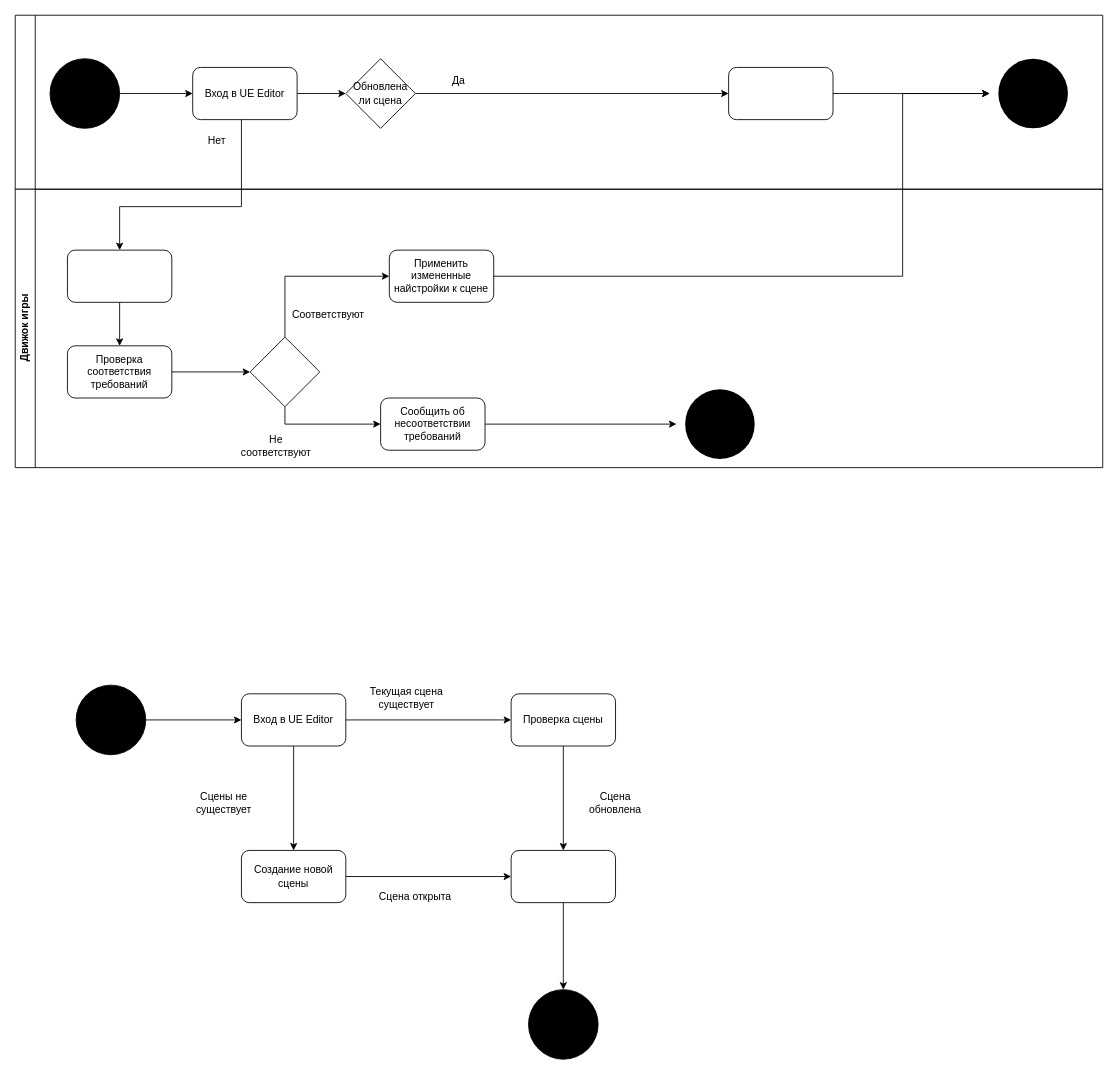
Some shapes in this 1118 by 1074 pixel diagram are drawn without their labels. The box of each missing label's shape, as (x1, y1, x2, y2) in pixels:
Вывод сцены: (728, 67, 833, 120)
Запрос на обновление: (67, 249, 172, 302)
Пользователь: (14, 14, 1103, 189)
Просмотр сцены: (510, 850, 616, 903)
